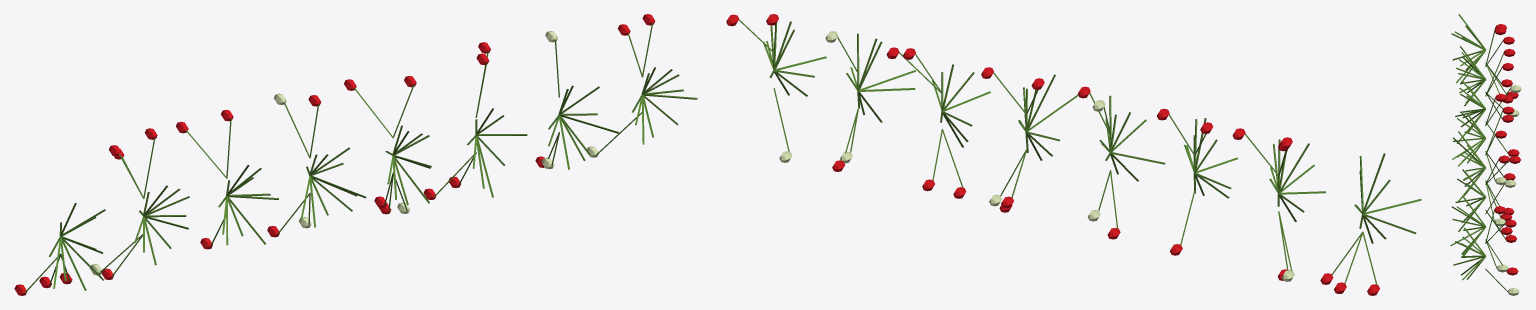
File: r28c5_rest.obj
The picture shows the model from 3 angles, left to right: view 1: azimuth 30°, elevation 25°; view 2: azimuth 150°, elevation 25°; view 3: azimuth 270°, elevation 25°; orthographic projection. The views are drawn at different scales.
Visible parts, largest first — view 1: r28c5_rest; view 2: r28c5_rest; view 3: r28c5_rest.
Part boxes in pixels (<box>): r28c5_rest: <box>14,14,697,295</box>; r28c5_rest: <box>726,14,1421,295</box>; r28c5_rest: <box>1450,14,1521,295</box>.
Size of the model in its own units: 1.96 by 0.4017 by 0.2566.
